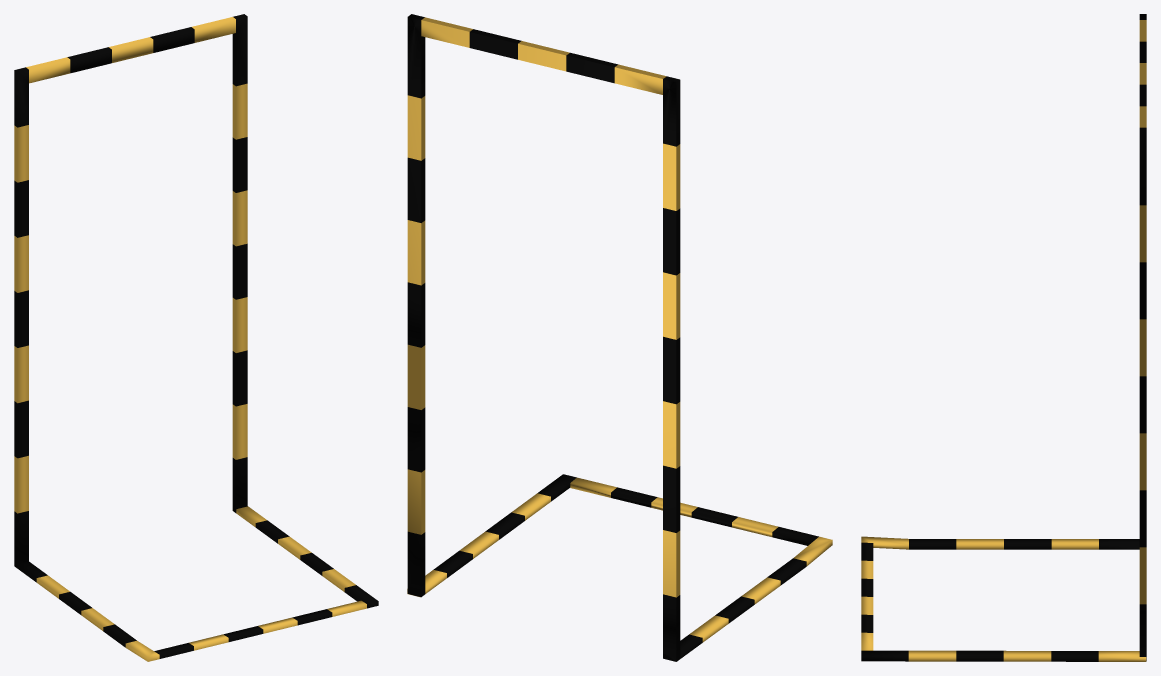
Rendered from Drop-off-zone-cover (1).fbx.
The picture shows the model from 3 angles, left to right: view 1: azimuth 30°, elevation 25°; view 2: azimuth 150°, elevation 25°; view 3: azimuth 270°, elevation 25°; orthographic projection. The views are drawn at different scales.
Parts seen in each view (by area): view 1: Dropzone_Cube.001; view 2: Dropzone_Cube.001; view 3: Dropzone_Cube.001.
Part boxes in pixels (bbox=[...]): Dropzone_Cube.001: bbox=[14, 14, 378, 661]; Dropzone_Cube.001: bbox=[407, 14, 832, 661]; Dropzone_Cube.001: bbox=[861, 14, 1146, 661].
Bounding box in the file's own units: 209 × 430 × 210.
